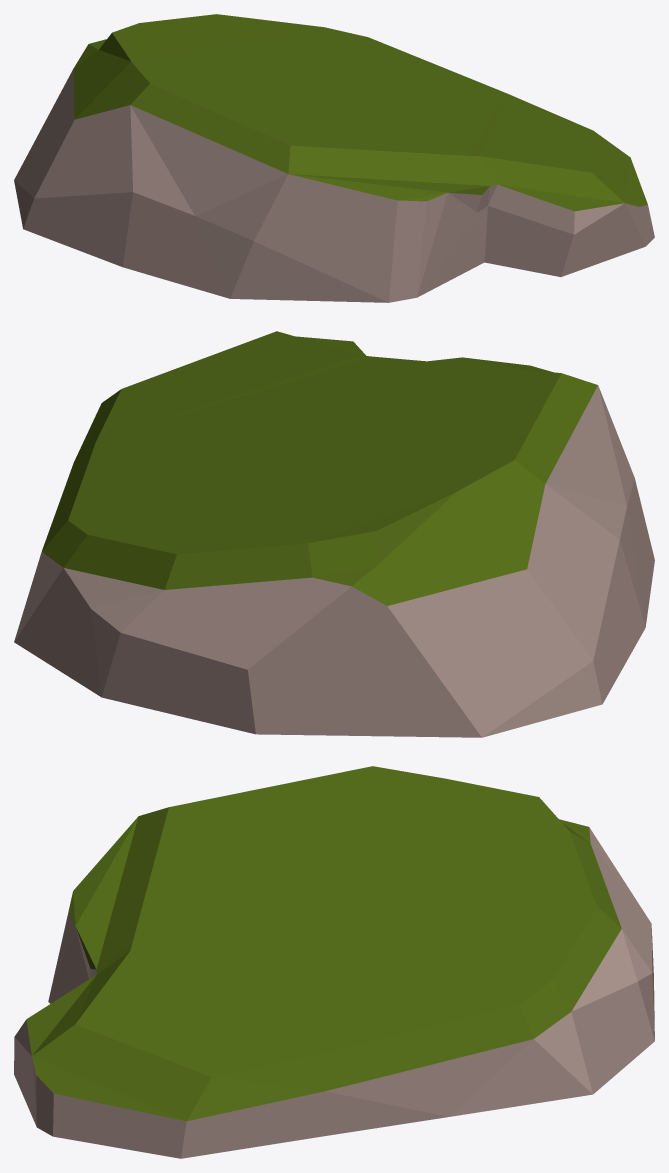
Rendered from Rock_4.fbx.
3 views of the same model, one above another, from view 1: azimuth 30°, elevation 25°; view 2: azimuth 150°, elevation 25°; view 3: azimuth 270°, elevation 25° (orthographic). The views are drawn at different scales.
Parts seen in each view (by area): view 1: Rock_4; view 2: Rock_4; view 3: Rock_4.
Part boxes in pixels (x1,y1,x2,y2): Rock_4: (14,14,654,302); Rock_4: (14,331,654,737); Rock_4: (14,766,654,1158).
Size of the model in its own units: 4.32 by 1.18 by 4.13.
